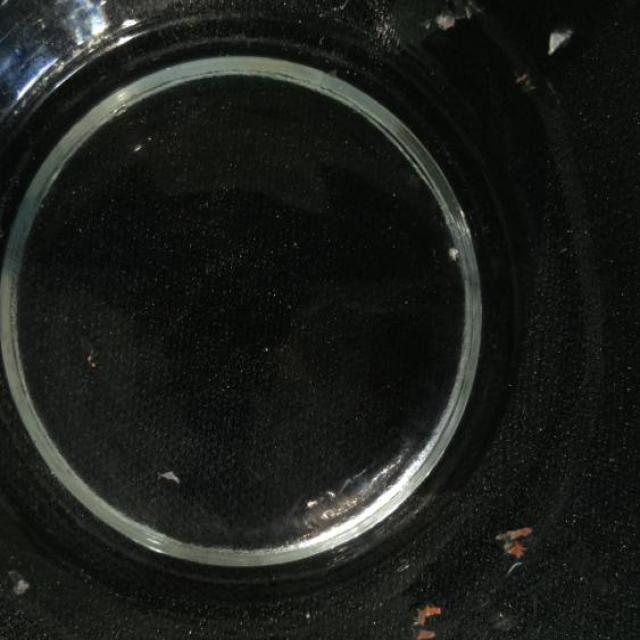fiber: (492, 518, 542, 578), (430, 4, 473, 34), (551, 23, 580, 61), (405, 595, 443, 623), (154, 465, 188, 492), (12, 566, 38, 601), (405, 618, 443, 639), (83, 342, 106, 373), (123, 136, 151, 157), (125, 630, 143, 639)
